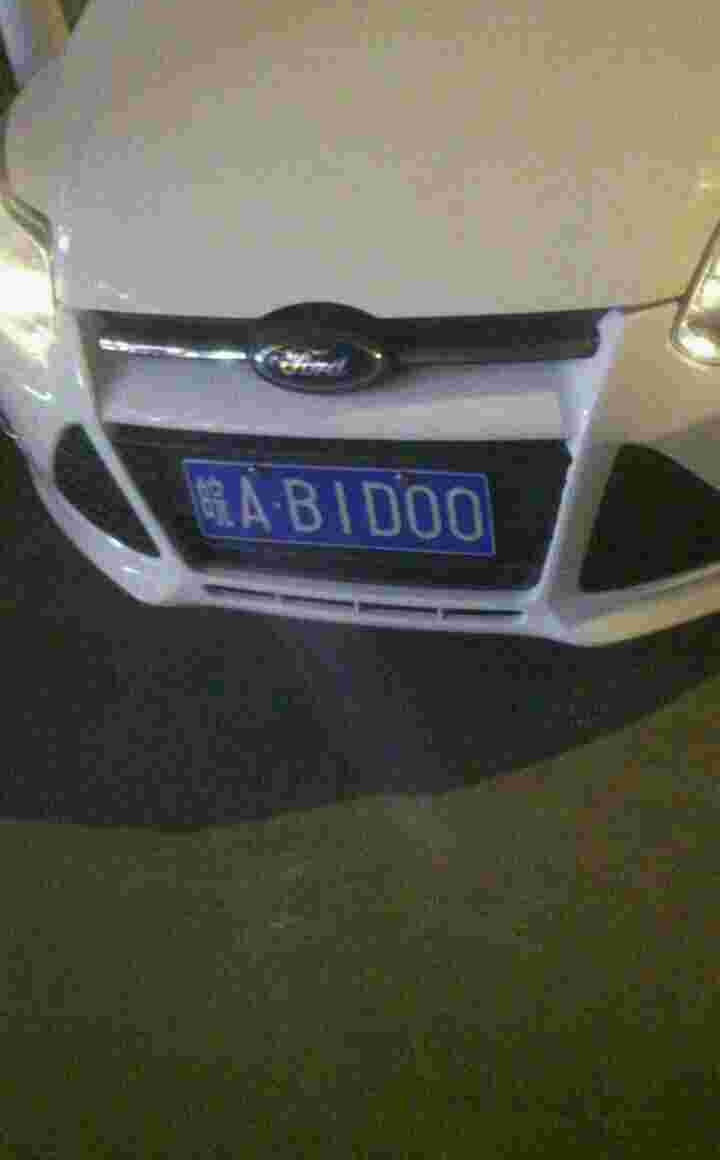license_plate: (187, 463, 502, 566)
